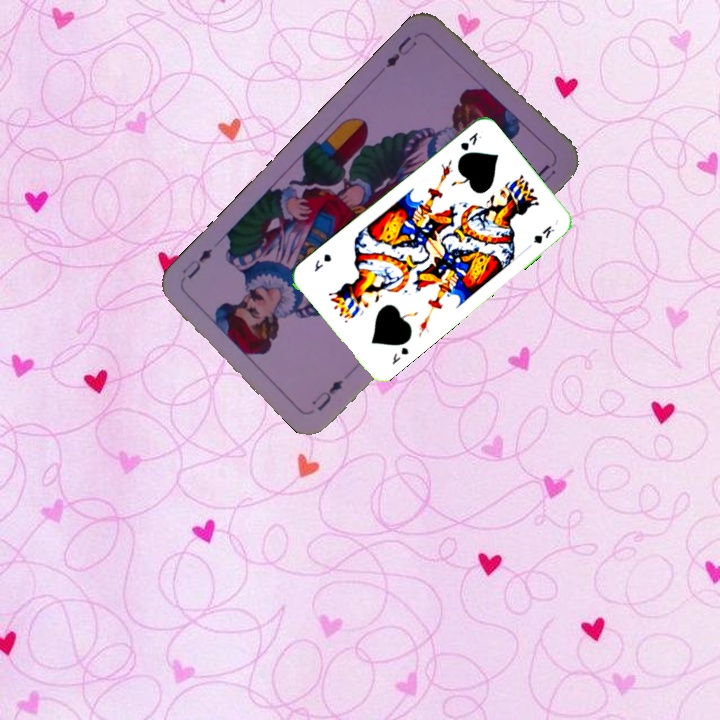EU: (381, 32, 420, 71), (307, 375, 346, 414)
GK: (456, 128, 484, 153), (388, 343, 411, 367)
